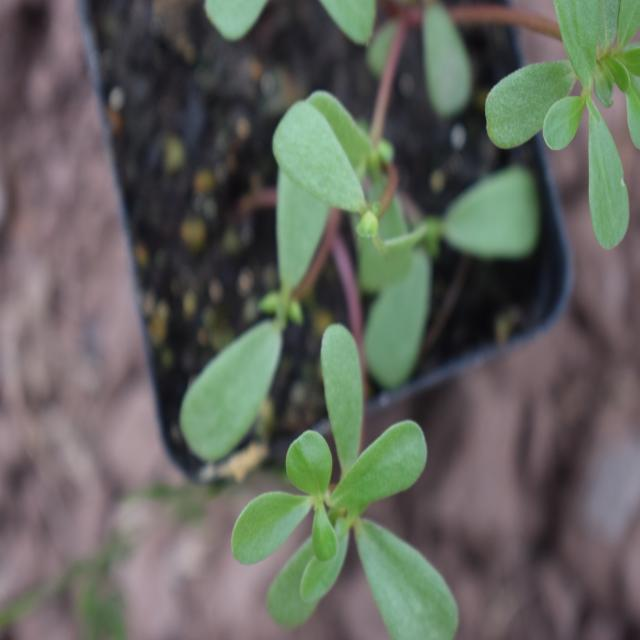purslane: (210, 60, 474, 630)
